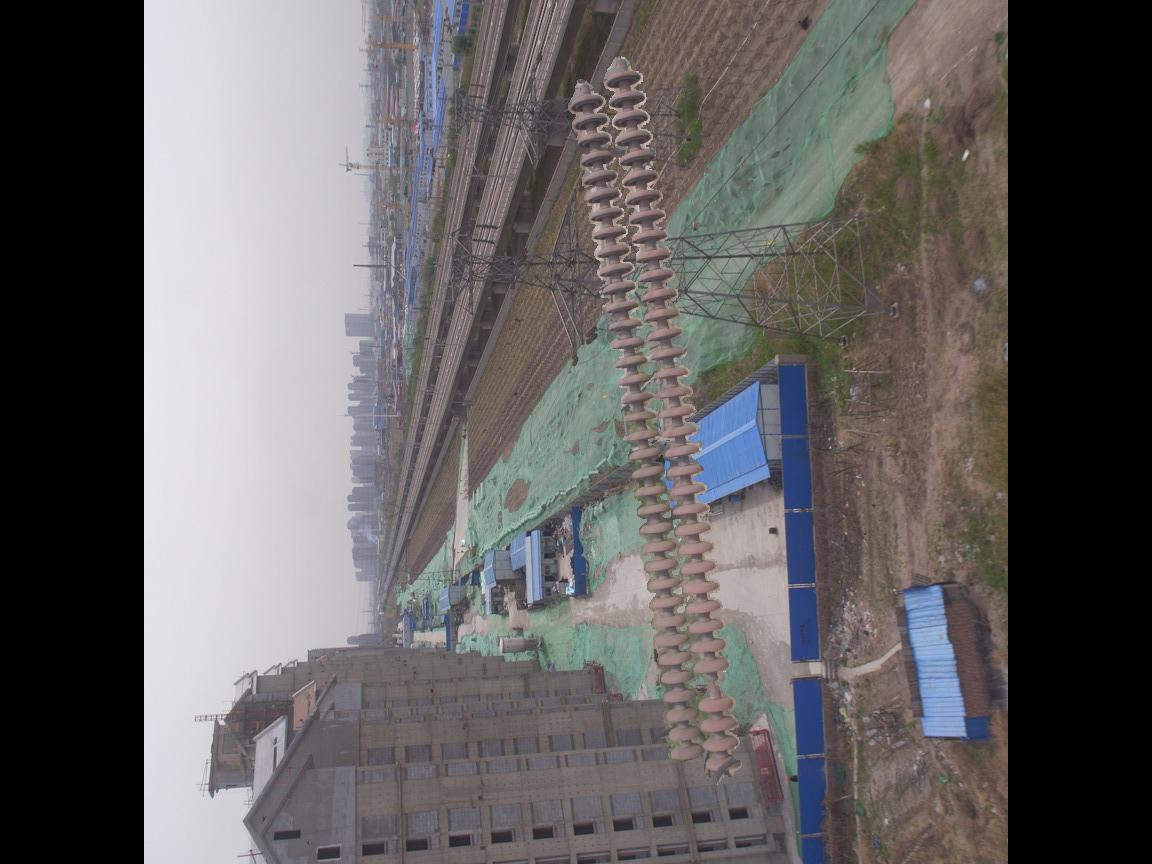insulator: (562, 61, 747, 783)
insulator_stringdrop: (691, 652, 737, 718)
